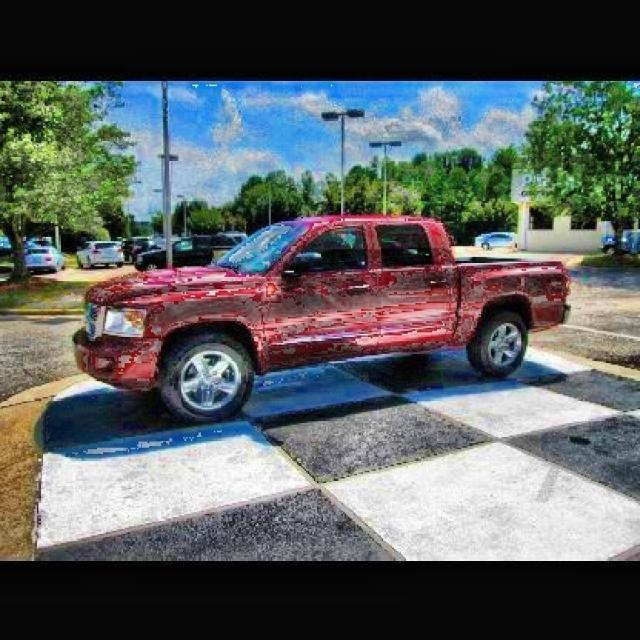maroon: (75, 219, 573, 421)
